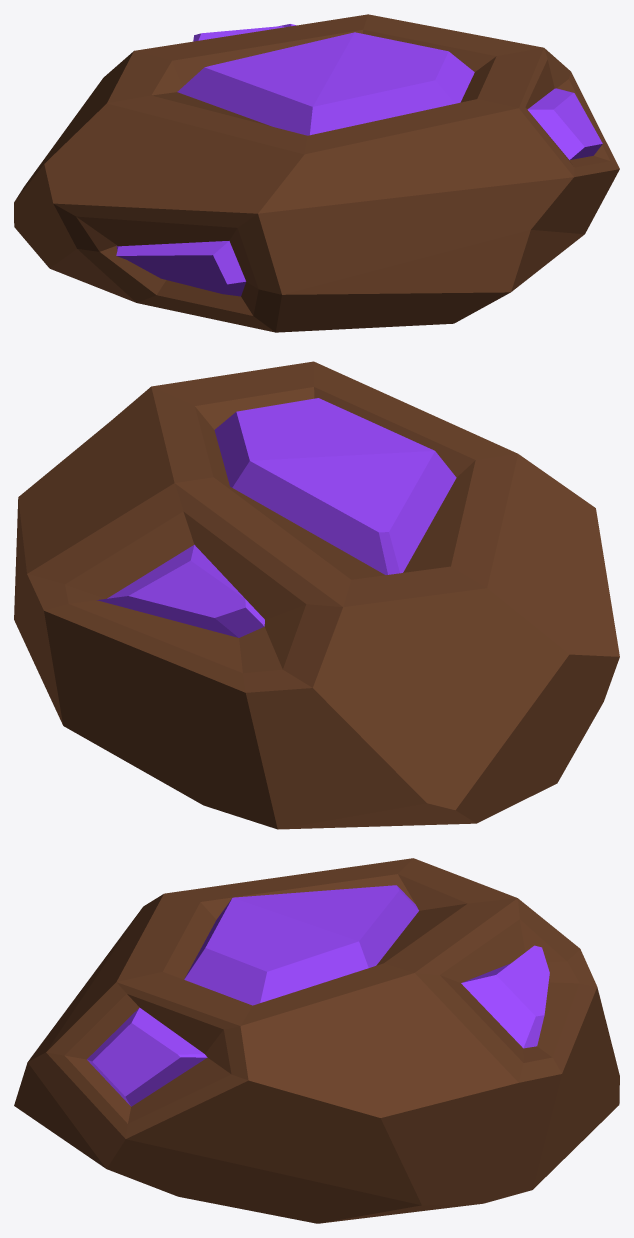
File: MineralNode_13_A.fbx
3 views of the same model, one above another, from view 1: azimuth 30°, elevation 25°; view 2: azimuth 150°, elevation 25°; view 3: azimuth 270°, elevation 25° (orthographic). The views are drawn at different scales.
Parts seen in each view (by area): view 1: MineralNode_13_A; view 2: MineralNode_13_A; view 3: MineralNode_13_A.
Part boxes in pixels (bbox=[...]): MineralNode_13_A: bbox=[14, 14, 619, 332]; MineralNode_13_A: bbox=[14, 361, 619, 829]; MineralNode_13_A: bbox=[14, 858, 619, 1223].
Size of the model in its own units: 80.35 by 29.64 by 77.08.
